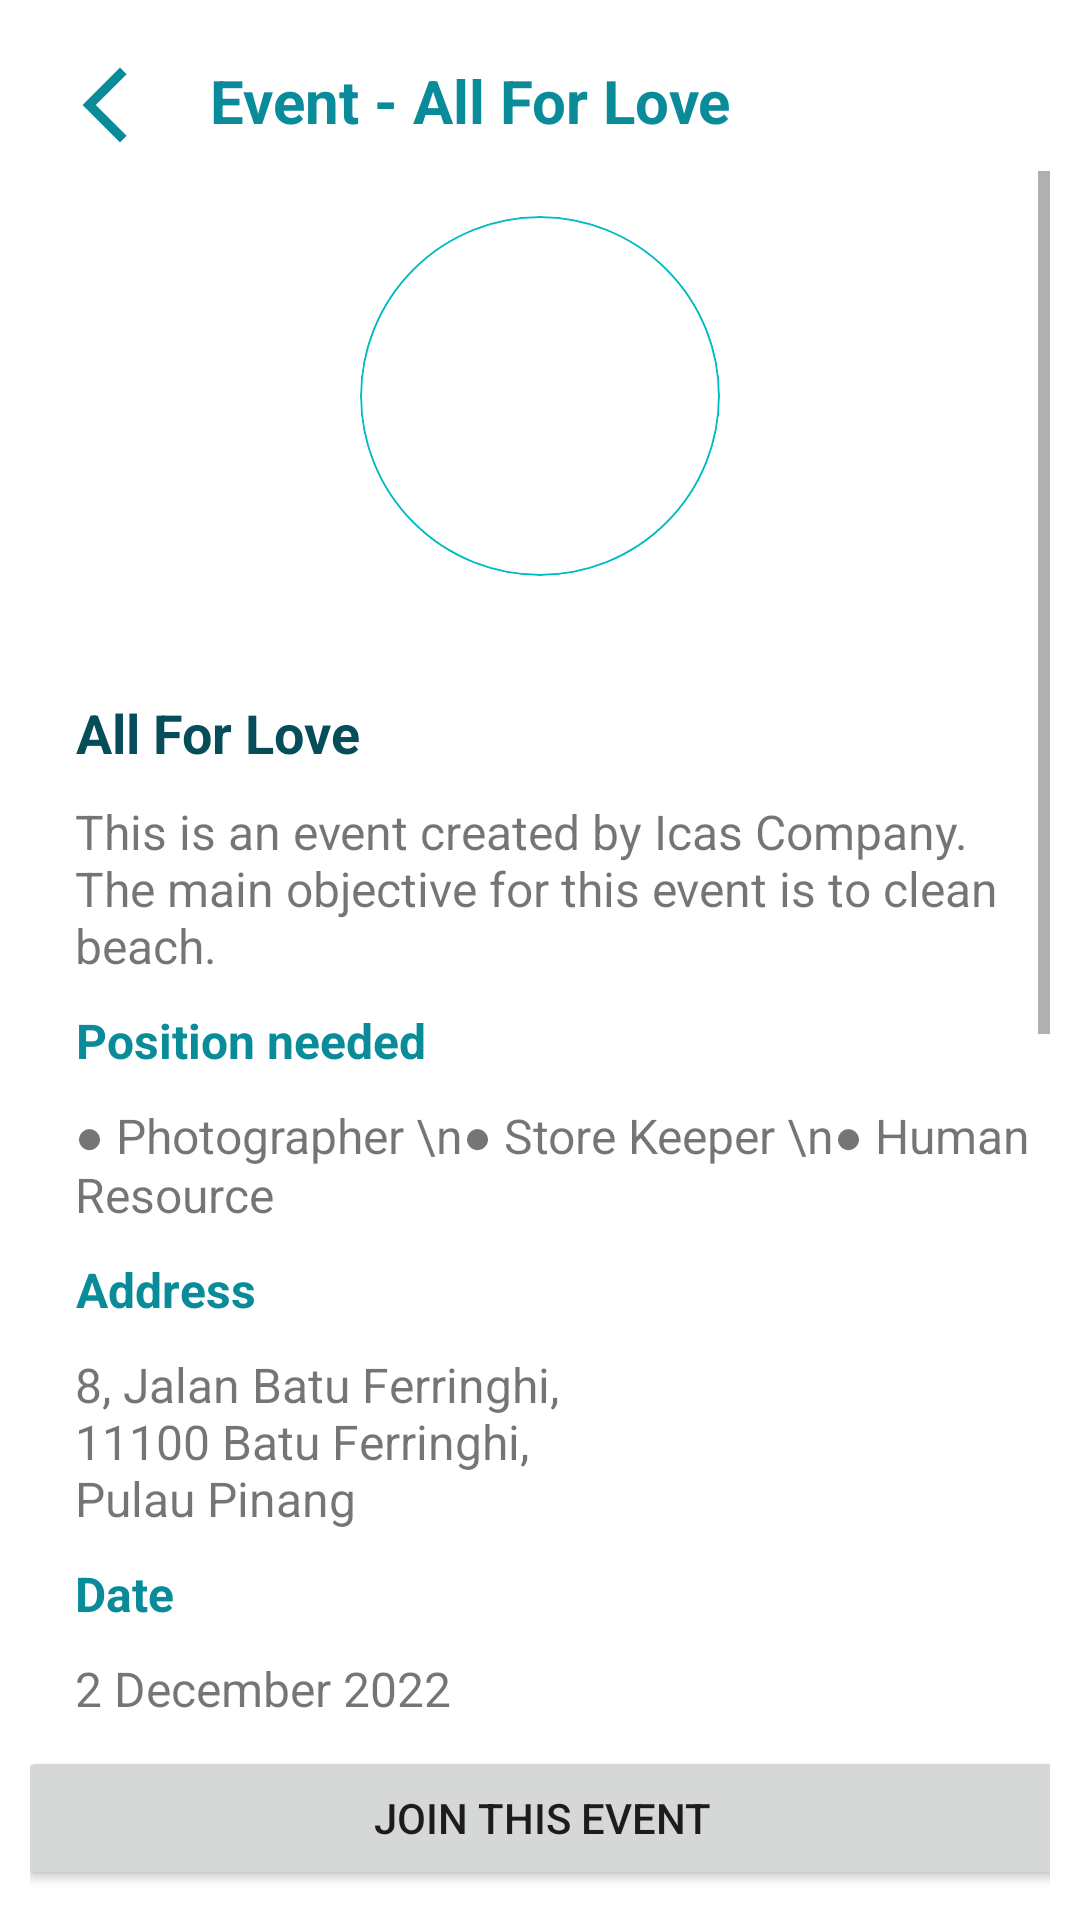

Named icons in this screenshot (1080px×1920px) and their bounding boxes, (x1, y1, x2, y2):
arrow back: (82, 67, 127, 143)
